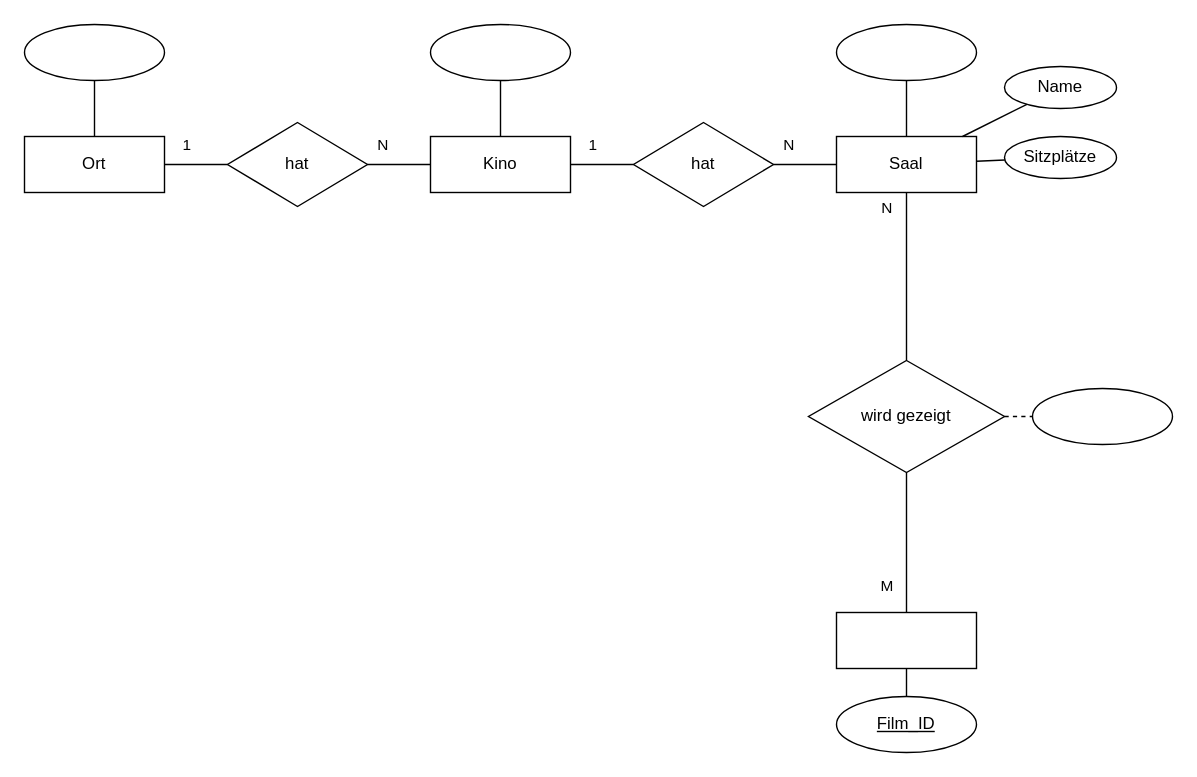
The diagram is 1197 pixels wide and 777 high, and some of its shapes have lost their labels. Here are the shapes that lost their labels. From the top down, the centre of each, then its label:
(93,51): Ort_ID
(499,51): Kino_ID
(905,51): Saal_ID
(1101,415): Datum_Uhrzeit
(905,639): Film
